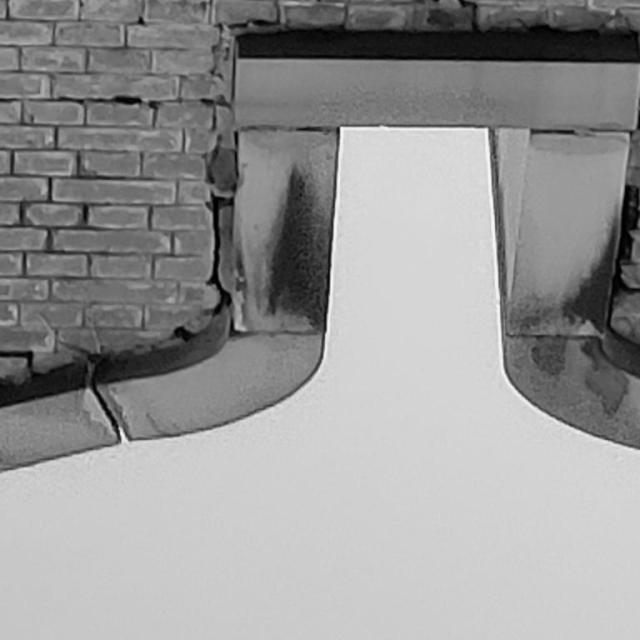crack: (58, 94, 232, 367), (606, 232, 638, 348), (1, 350, 52, 380)
